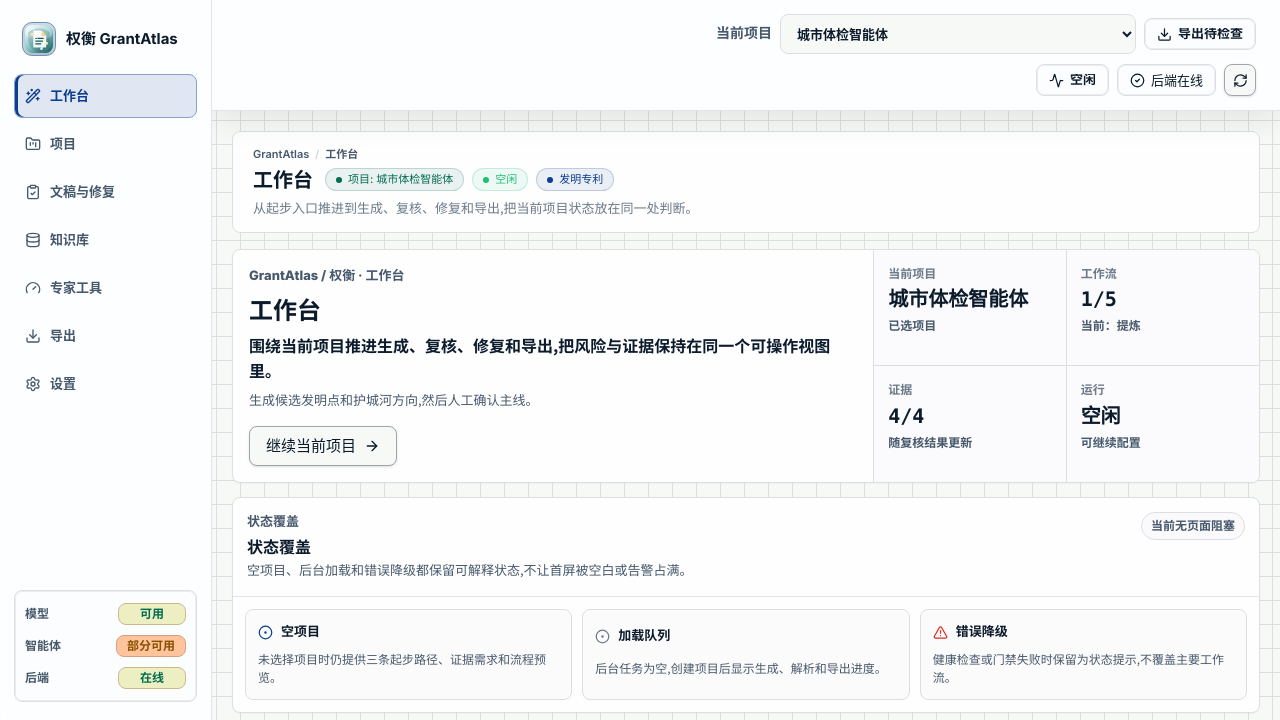
Test: AppRoot routes › opens backend diagnostics from the topbar backend chip
The width and height of the screenshot is (1280, 720).
Check: the text "模型名称" is not shown
Check: the text "/tmp/patent-agent" is not shown
Click the button "后端在线".
click(1166, 80)  # box [1117,64,1216,96]
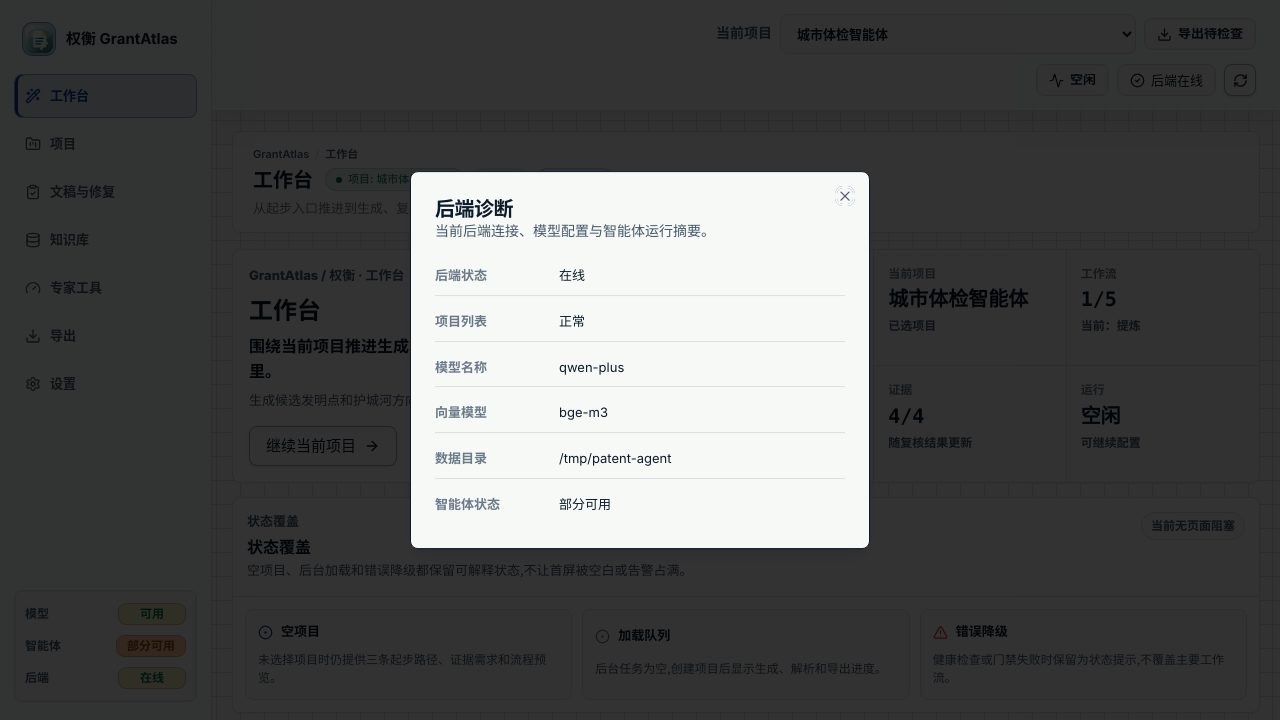
Check: the dialog "后端诊断" is shown, box [410,171,870,549]
Check: the text "后端状态" is shown, box [435,268,487,284]
Check: the text "在线" is shown, box [559,268,585,284]
